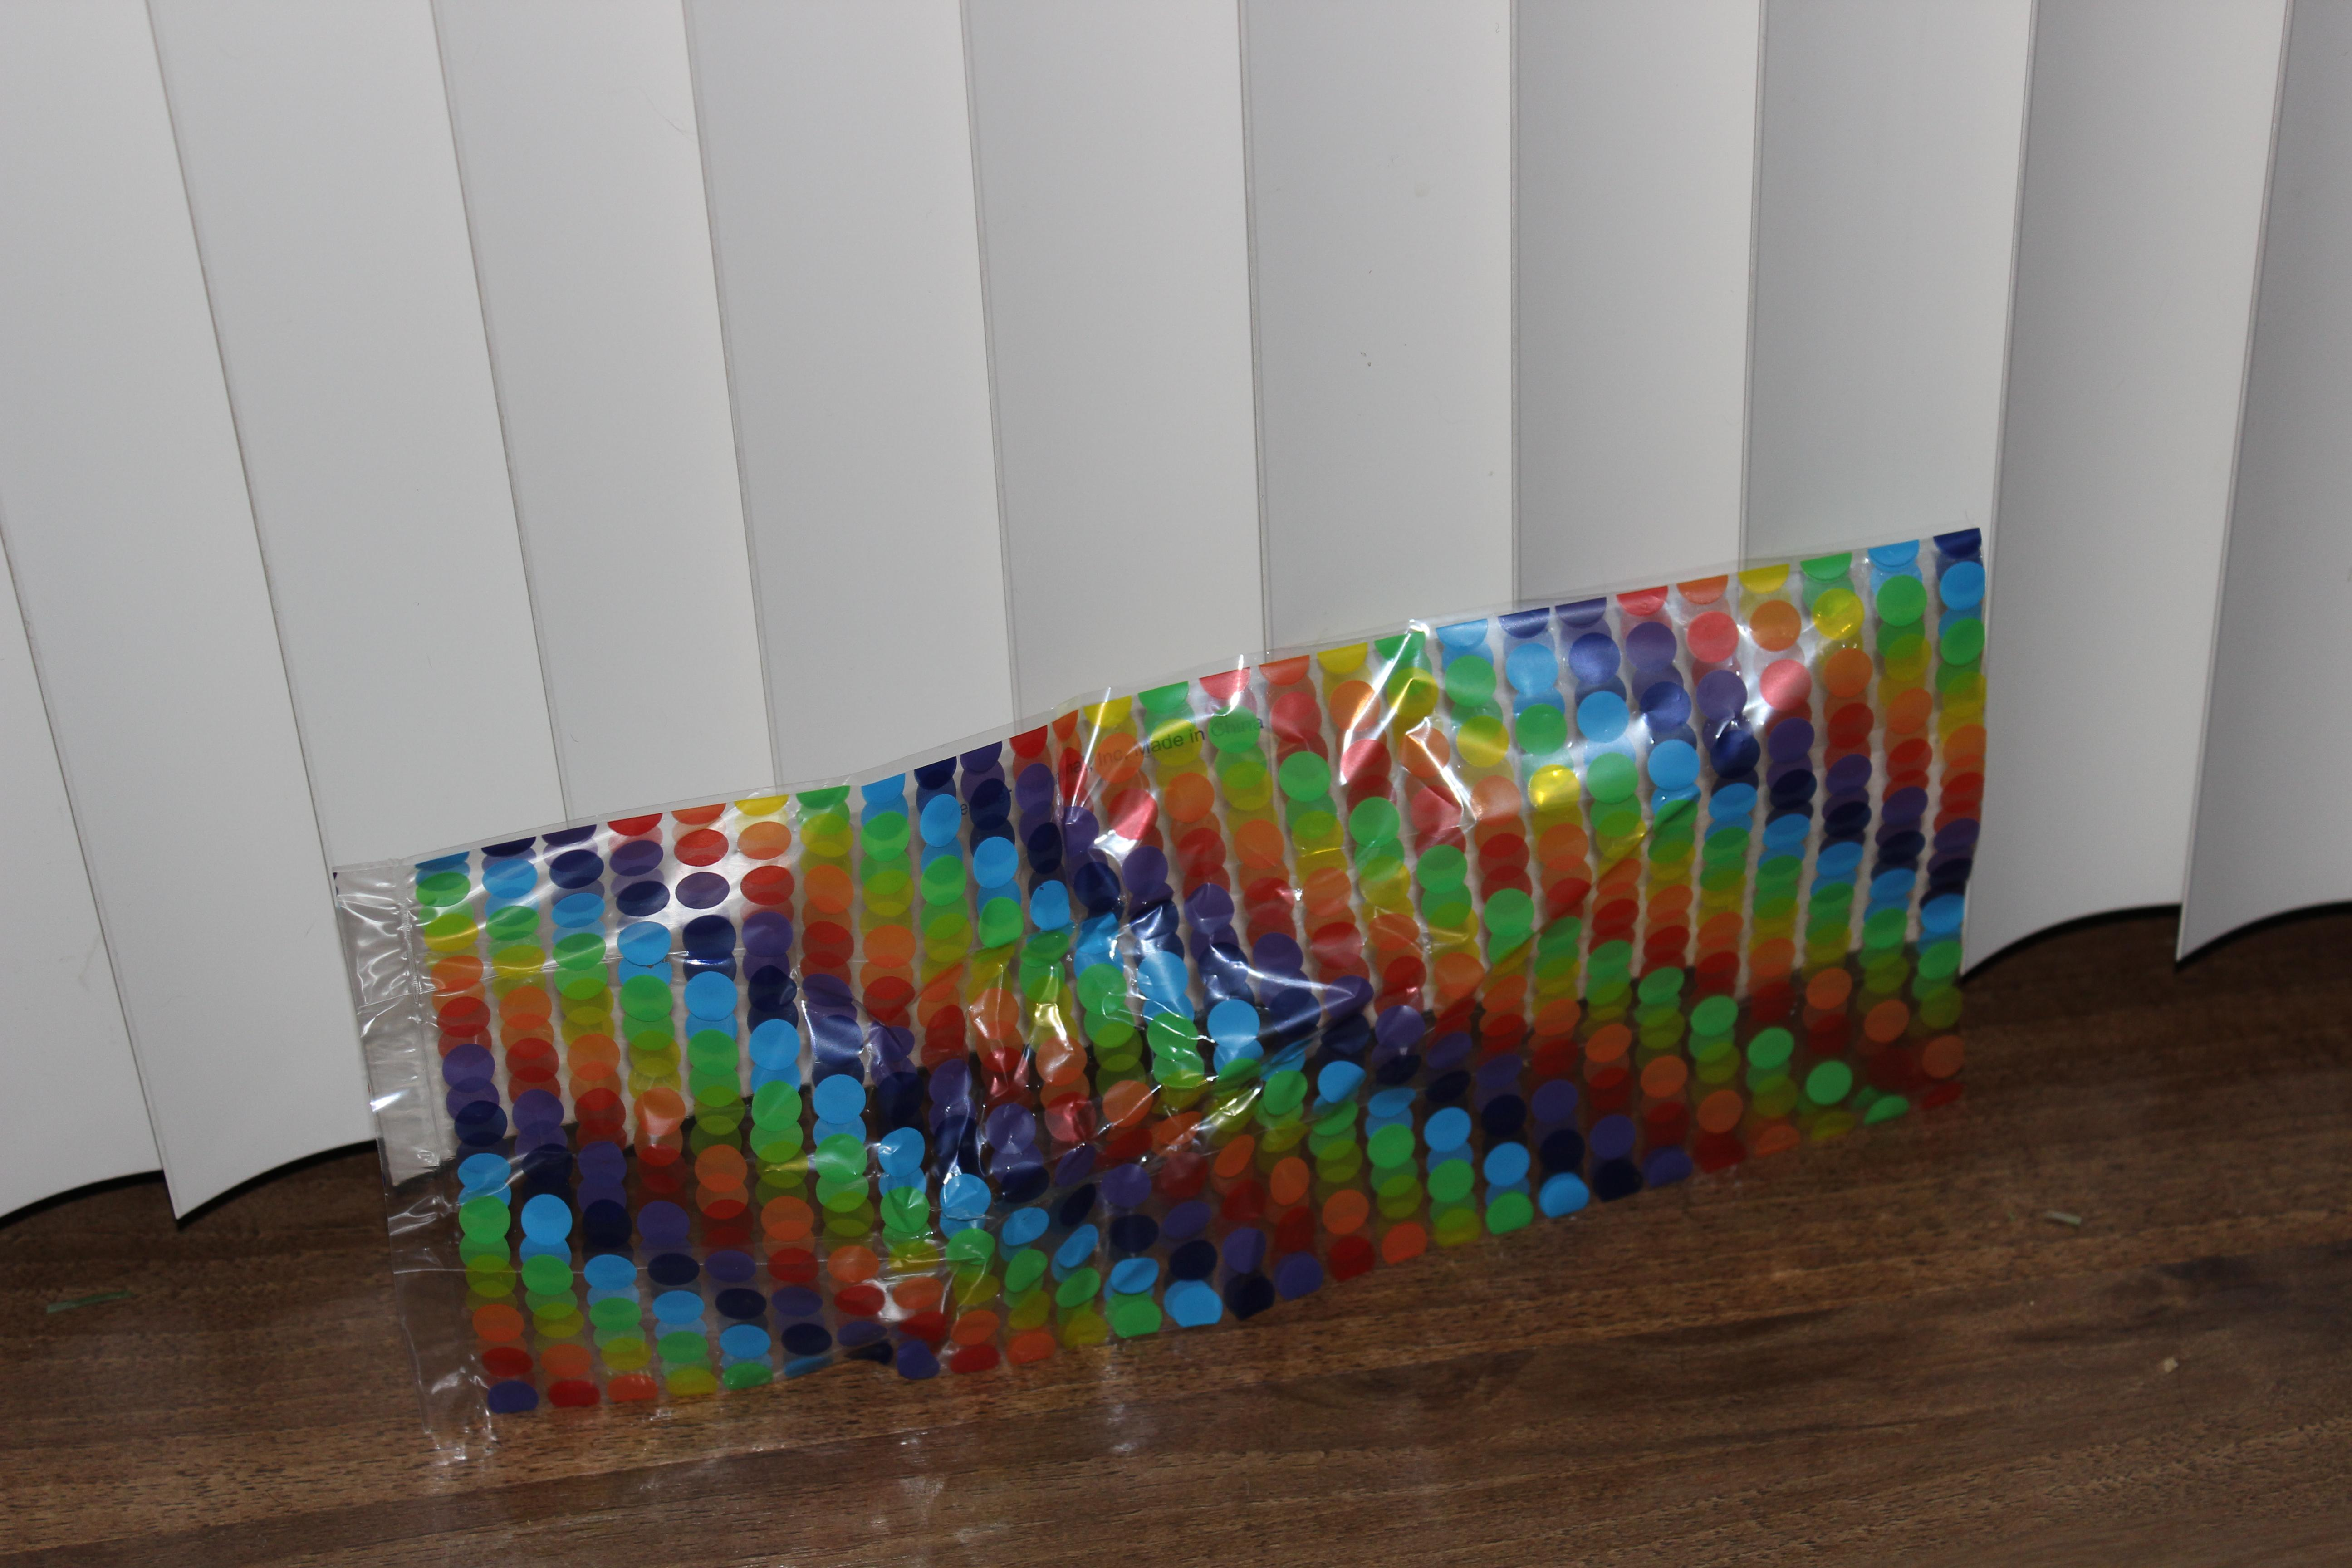giftBag: (308, 509, 2016, 1521)
